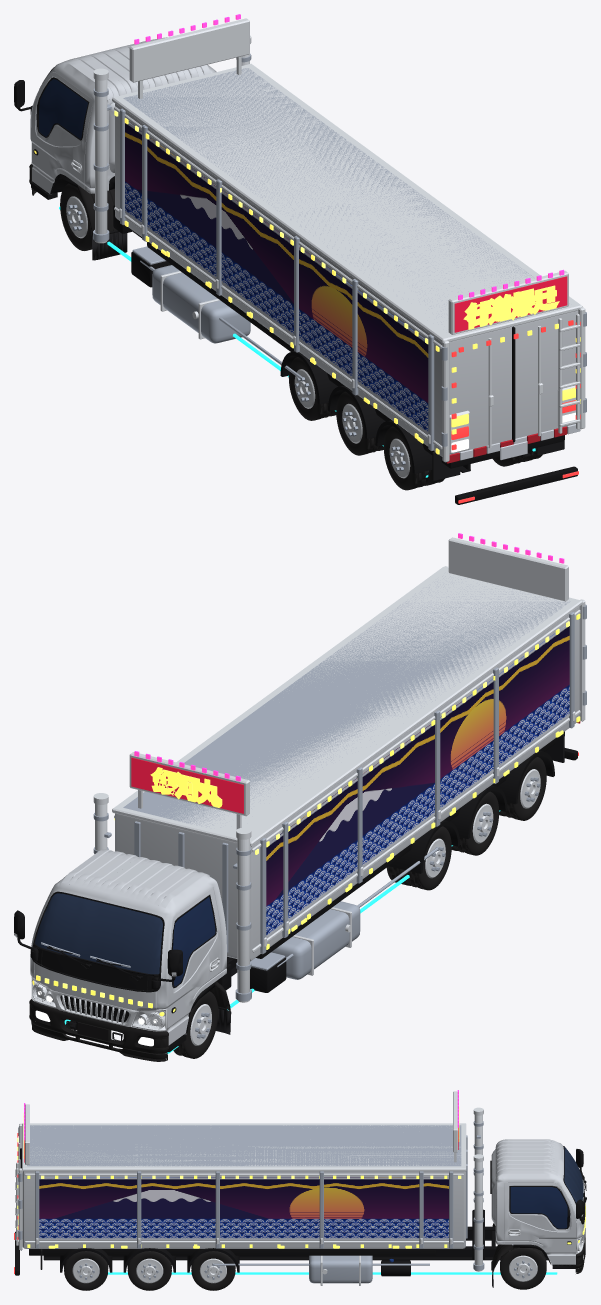
Rendered from dekotora_truck_longo_jac.glb.
3 renders of one model, top to bottom at view 1: azimuth 30°, elevation 25°; view 2: azimuth 150°, elevation 25°; view 3: azimuth 270°, elevation 25°, orthographic. The views are drawn at different scales.
Parts seen in each view (by area): view 1: truck_chrome, truck_mural, truck_steel, truck_paint_white_panel, truck_plastic_black, truck_lamp_amber, truck_glass, wheel_r_L_1.5_1.06, wheel_r_L_3.0_1.06, wheel_f_L, wheel_r_L_4.5_1.06, truck_rubber (+5 smaller); view 2: truck_chrome, truck_steel, truck_mural, truck_paint_white_panel, truck_plastic_black, truck_glass_wind, truck_plastic_trim, truck_lamp_amber, truck_andon_panel, truck_glass, wheel_f_L, wheel_r_L_1.5_1.06 (+3 smaller); view 3: truck_mural, truck_steel, truck_paint_white_panel, truck_chrome, truck_plastic_black, truck_glass, wheel_f_R, wheel_r_R_3.0_1.06, wheel_r_R_1.5_1.06, wheel_r_R_4.5_1.06, truck_lamp_amber, truck_glass_wind (+2 smaller).
Boxes of the visible parts, x1,y1,x2,y2 form: truck_chrome: (31,18,585,462); truck_mural: (125,122,428,434); truck_steel: (93,53,586,450); truck_paint_white_panel: (30,37,578,456); truck_plastic_black: (14,67,577,504); truck_lamp_amber: (34,118,580,454); truck_glass: (39,79,87,138); wheel_r_L_1.5_1.06: (383,426,430,490); wheel_r_L_3.0_1.06: (336,391,380,455); wheel_f_L: (60,183,92,250); wheel_r_L_4.5_1.06: (288,357,332,420); truck_rubber: (92,232,564,481); truck_chrome: (14,537,585,1031); truck_steel: (41,576,586,1001); truck_mural: (266,625,569,937); truck_paint_white_panel: (30,606,579,1045); truck_plastic_black: (14,731,577,1052); truck_glass_wind: (35,893,162,974); truck_plastic_trim: (29,981,230,1061); truck_lamp_amber: (32,613,580,1016); truck_andon_panel: (131,757,243,813); truck_glass: (172,897,215,986); wheel_f_L: (173,991,218,1058); wheel_r_L_1.5_1.06: (502,757,546,820); truck_mural: (39,1177,448,1239); truck_steel: (18,1121,583,1283); truck_paint_white_panel: (22,1139,584,1264); truck_chrome: (15,1091,585,1285); truck_plastic_black: (15,1146,586,1276); truck_glass: (510,1187,567,1228); wheel_f_R: (500,1245,546,1289); wheel_r_R_3.0_1.06: (127,1251,171,1290); wheel_r_R_1.5_1.06: (64,1251,108,1290); wheel_r_R_4.5_1.06: (191,1251,235,1290); truck_lamp_amber: (17,1107,585,1248); truck_glass_wind: (564,1147,583,1202).
Bounding box in the file's own units: 3.05 × 4.22 × 13.5.
22 materials, 6 textured.
